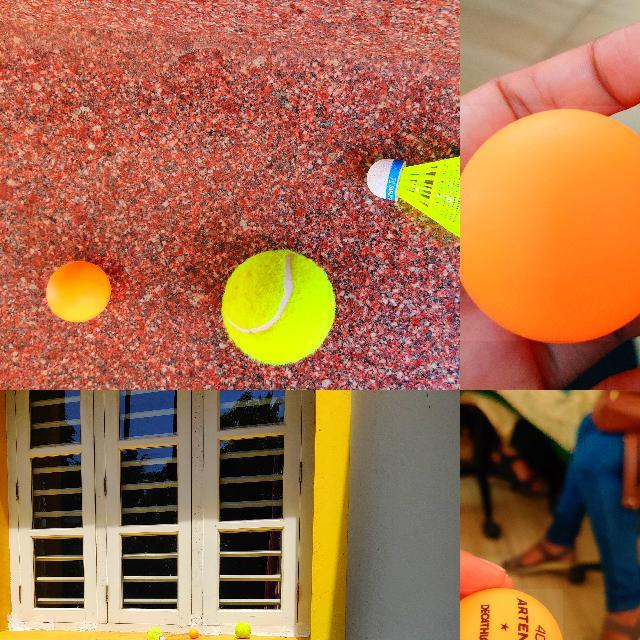ping-pong-ball: (460, 106, 639, 343), (460, 588, 565, 639), (44, 261, 108, 321), (189, 630, 197, 638)
